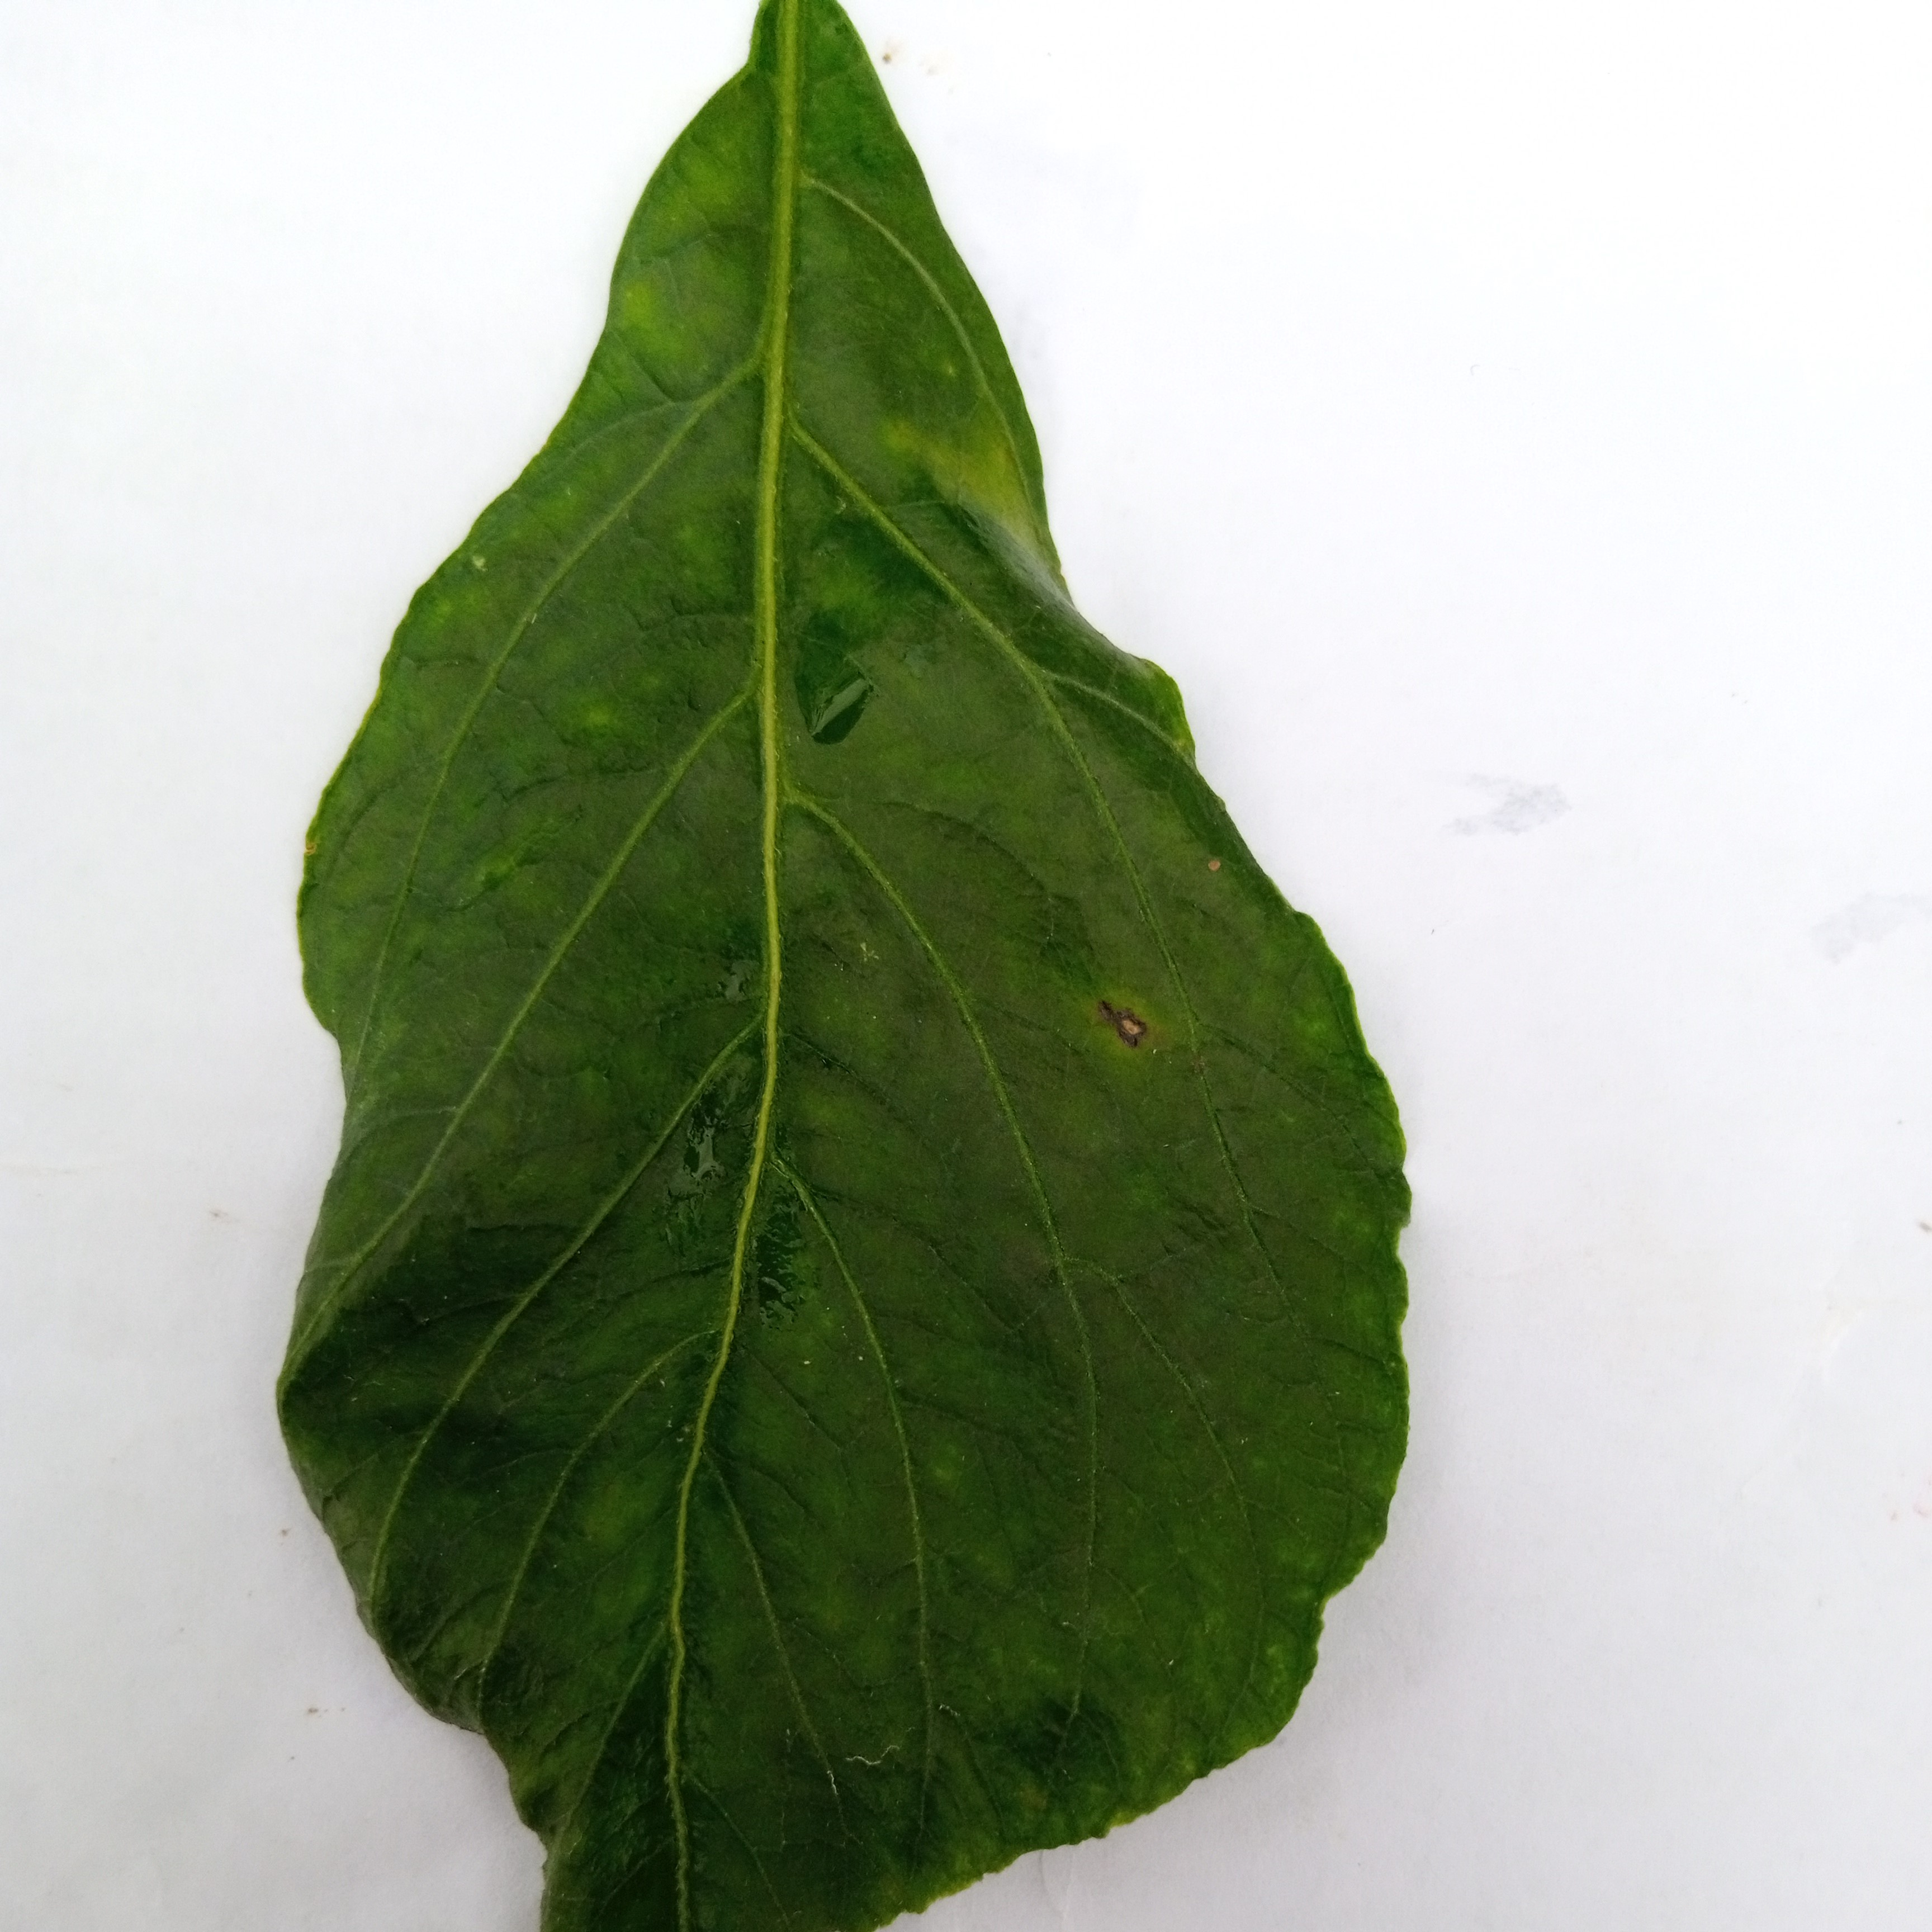Leaf: (172, 35, 1783, 1932)
